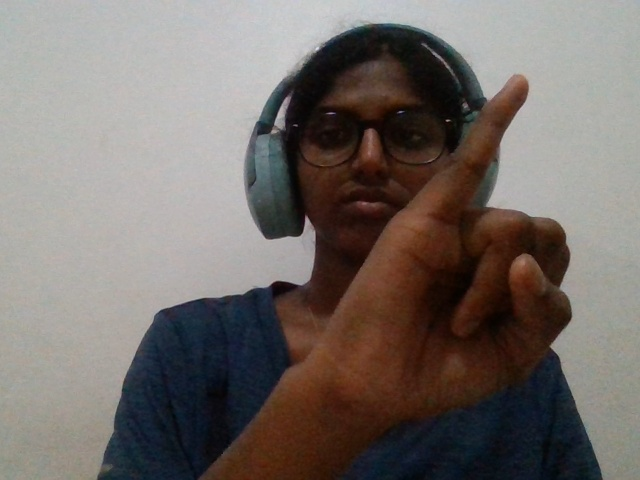I: (291, 60, 605, 466)
